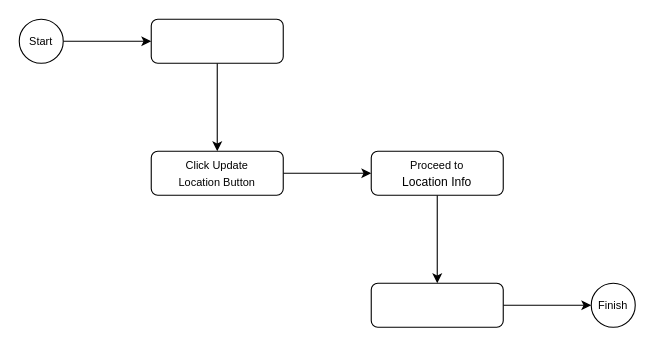
This 655x347 diagram has some shape labels left out. The centre of each missing label's shape, as x and y in pixels:
Complete Location Info: point (436, 304)
Select User Profile Menu: point (216, 40)
